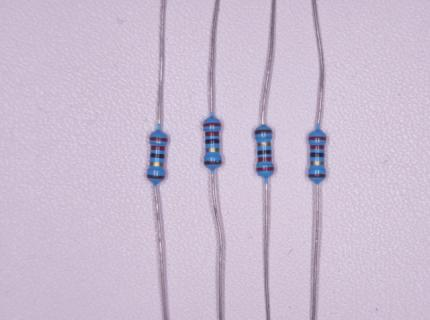Black band: (150, 152, 165, 159), (204, 138, 220, 144), (257, 149, 272, 155), (309, 152, 325, 157)
Brown band: (146, 174, 165, 180), (254, 129, 273, 135), (203, 161, 222, 165), (308, 174, 326, 178)
Gold band: (149, 161, 165, 167), (310, 161, 324, 166), (257, 142, 272, 146), (205, 148, 220, 152)
Red band: (150, 136, 168, 142), (205, 130, 220, 137), (308, 136, 327, 141), (151, 145, 165, 151), (309, 145, 325, 150), (203, 123, 222, 127), (256, 167, 275, 171), (257, 157, 272, 162)
